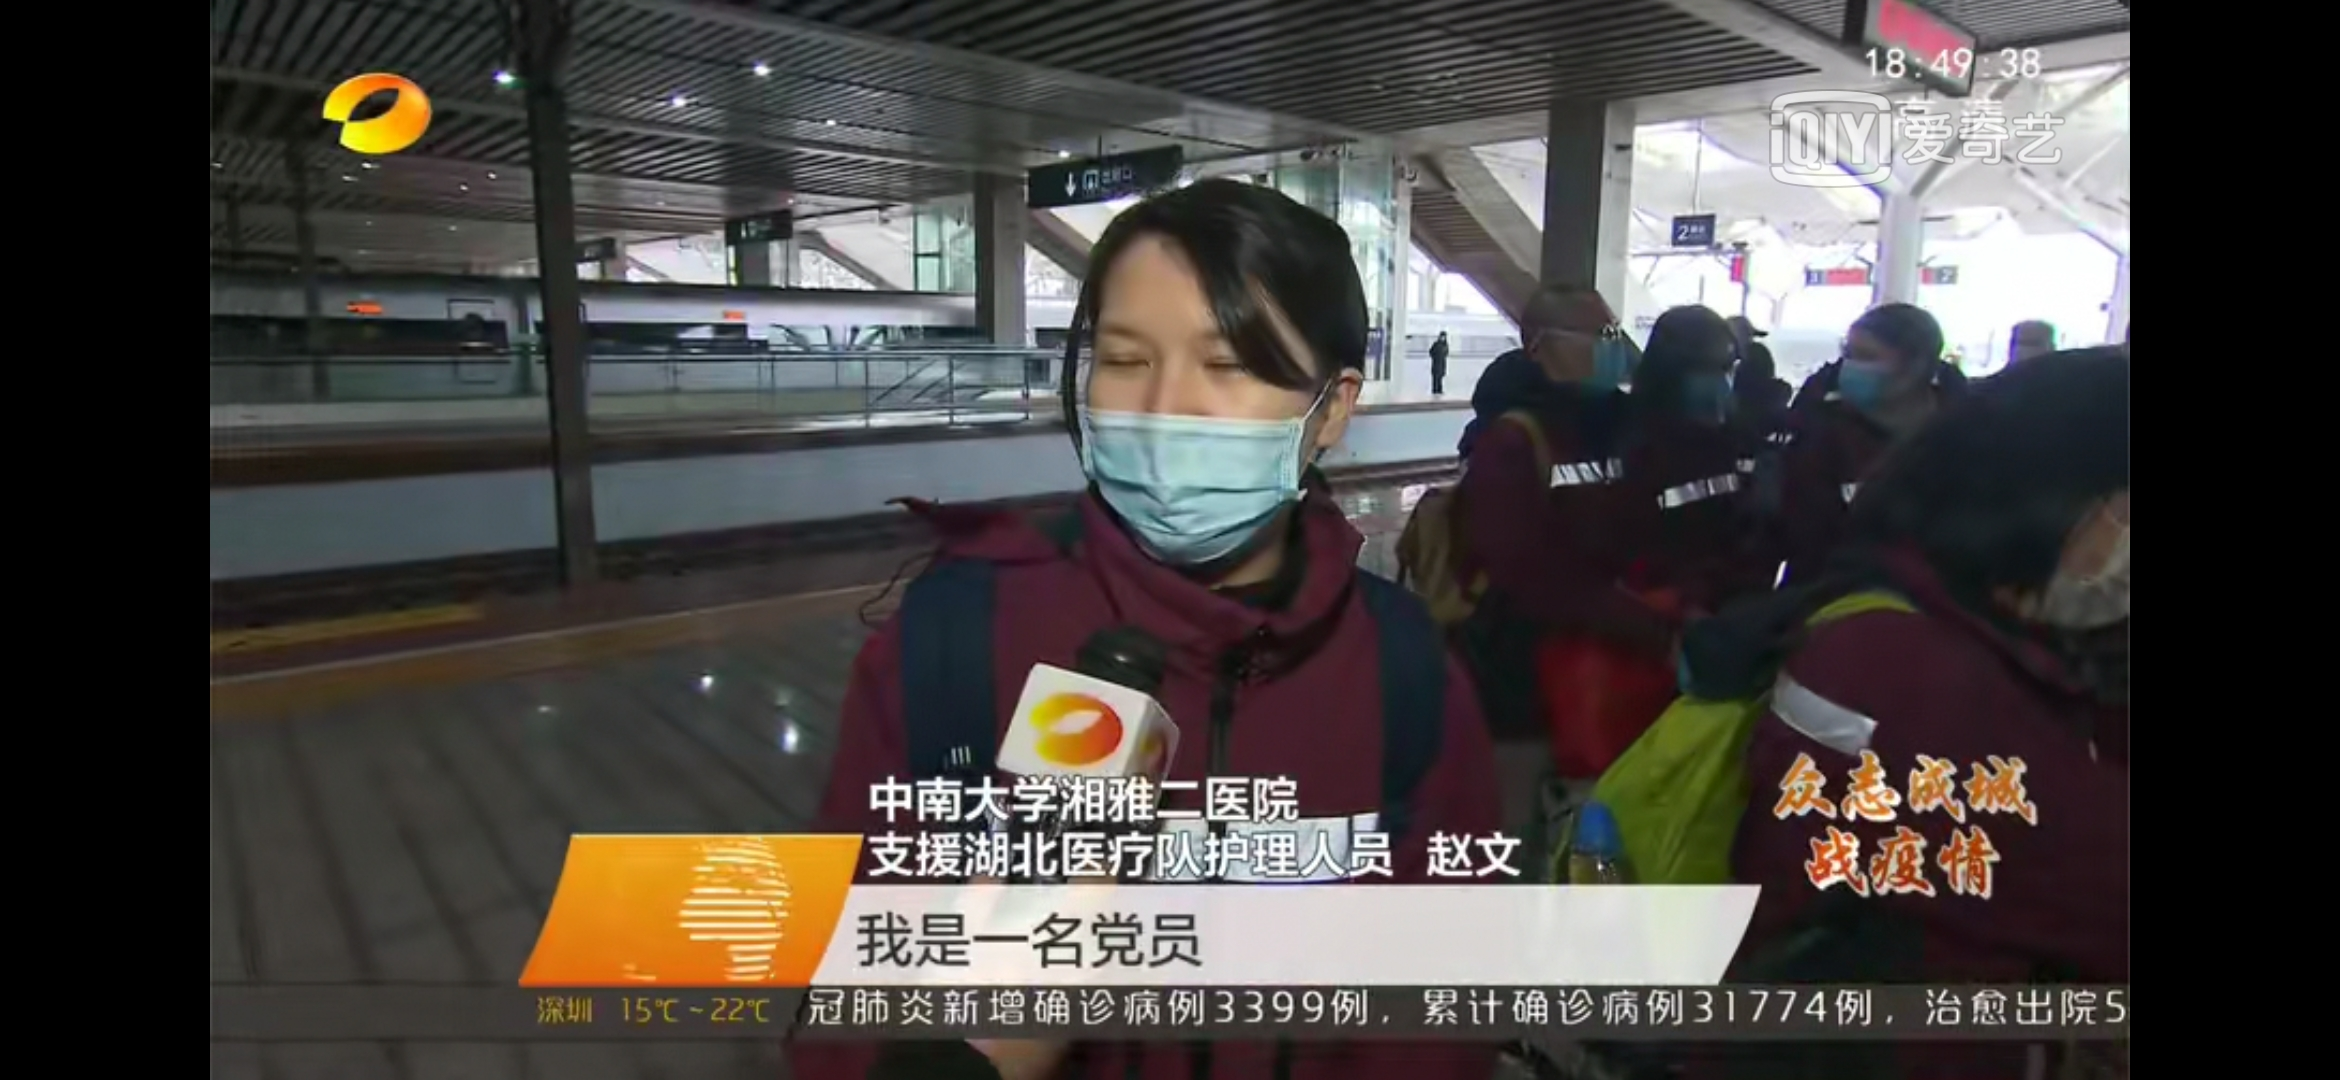correctlyWear: (2016, 462, 2130, 635), (1533, 313, 1628, 397), (1833, 340, 1928, 412), (1680, 343, 1736, 409)
incorrectlyWear: (1069, 313, 1357, 568)
